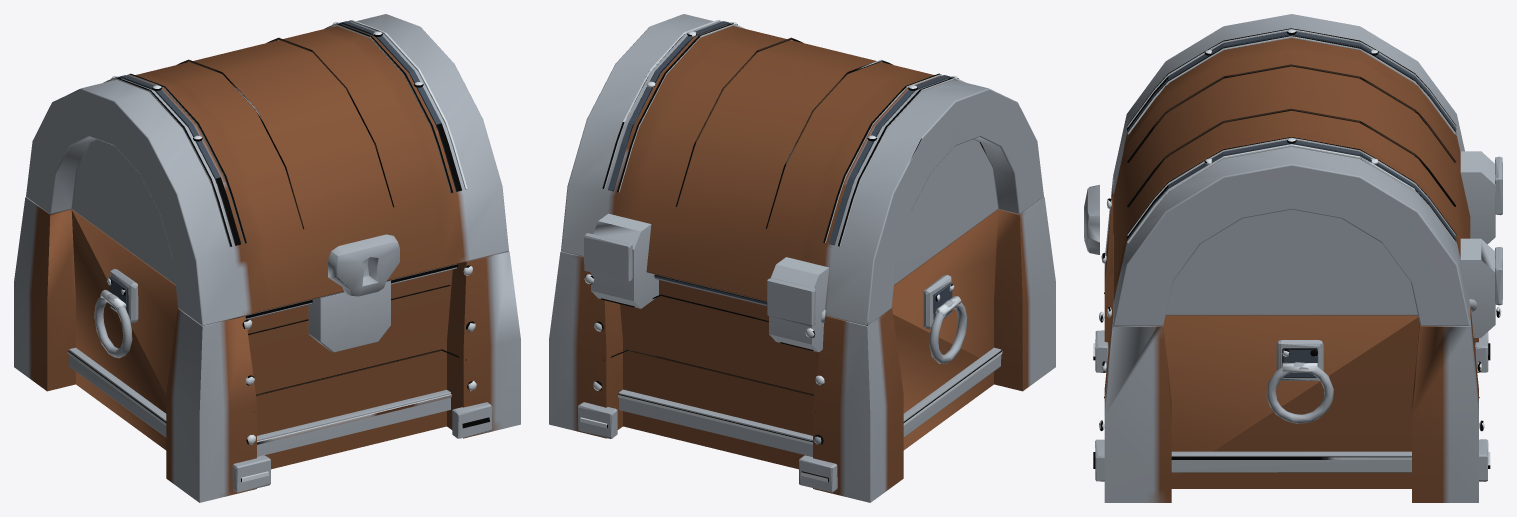
File: wayfarer-oak.glb
The picture shows the model from 3 angles, left to right: view 1: azimuth 30°, elevation 25°; view 2: azimuth 150°, elevation 25°; view 3: azimuth 270°, elevation 25°; orthographic projection.
Visible parts, largest first — view 1: LidShell, Body; view 2: LidShell, Body; view 3: LidShell, Body.
Part boxes in pixels (x1,y1,x2,y2): LidShell: [26, 14, 508, 352]; Body: [14, 197, 520, 502]; LidShell: [561, 14, 1043, 325]; Body: [549, 197, 1055, 502]; LidShell: [1084, 14, 1470, 325]; Body: [1093, 151, 1502, 502].
Size of the model in its own units: 2 by 2 by 2.24.
Materials: 1 (1 with a texture image).
